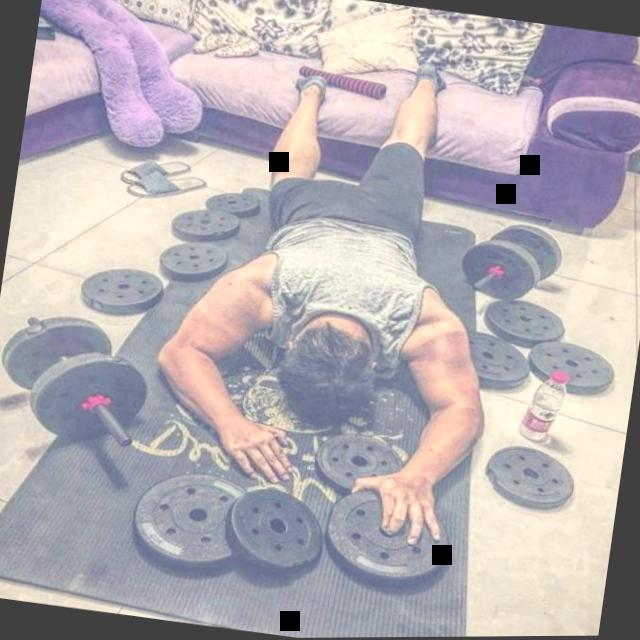Fall-Detected: (130, 22, 564, 576)
